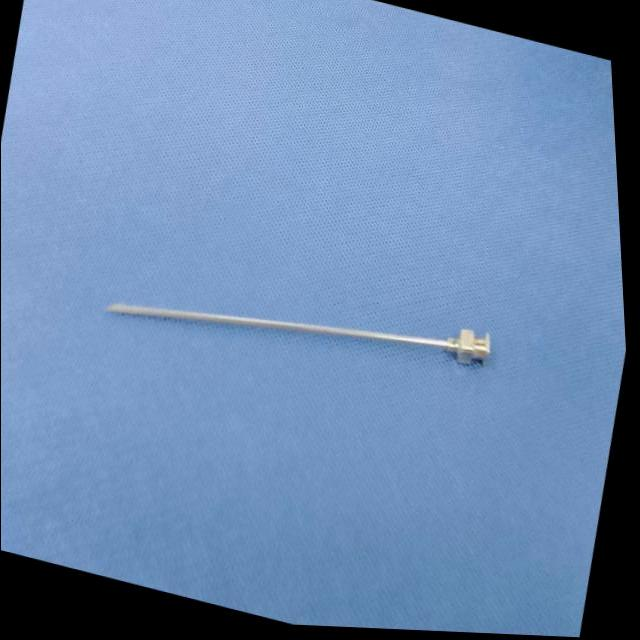General: (1, 1, 628, 637)
Sharps: (106, 303, 492, 366)
